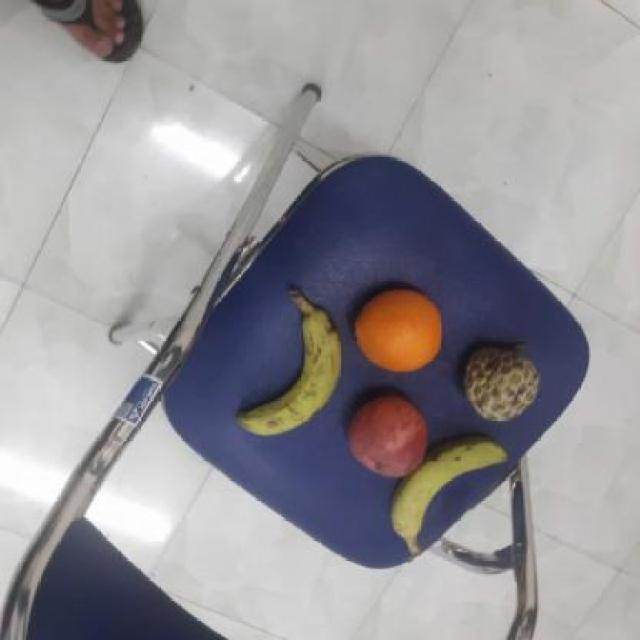apple: (343, 390, 434, 478)
banana: (232, 302, 346, 440), (389, 436, 511, 546)
oren: (352, 289, 443, 373)
sugar apple: (461, 340, 542, 422)
